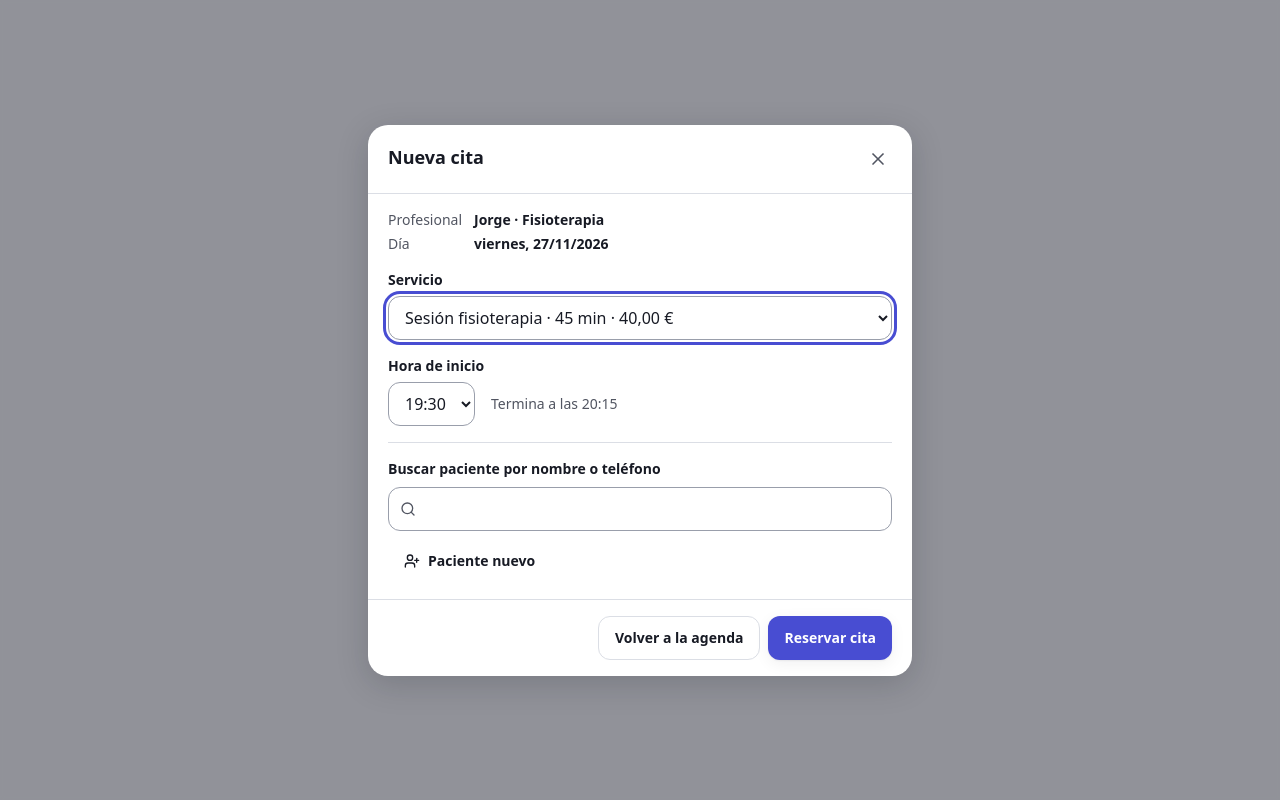
Scenario: DialogoAltaCita › [001][FR-016] ante un 422 conserva los datos del paciente nuevo y muestra los errores por campo
Click the button "Paciente nuevo" at (470, 560), box [388, 538, 551, 582]
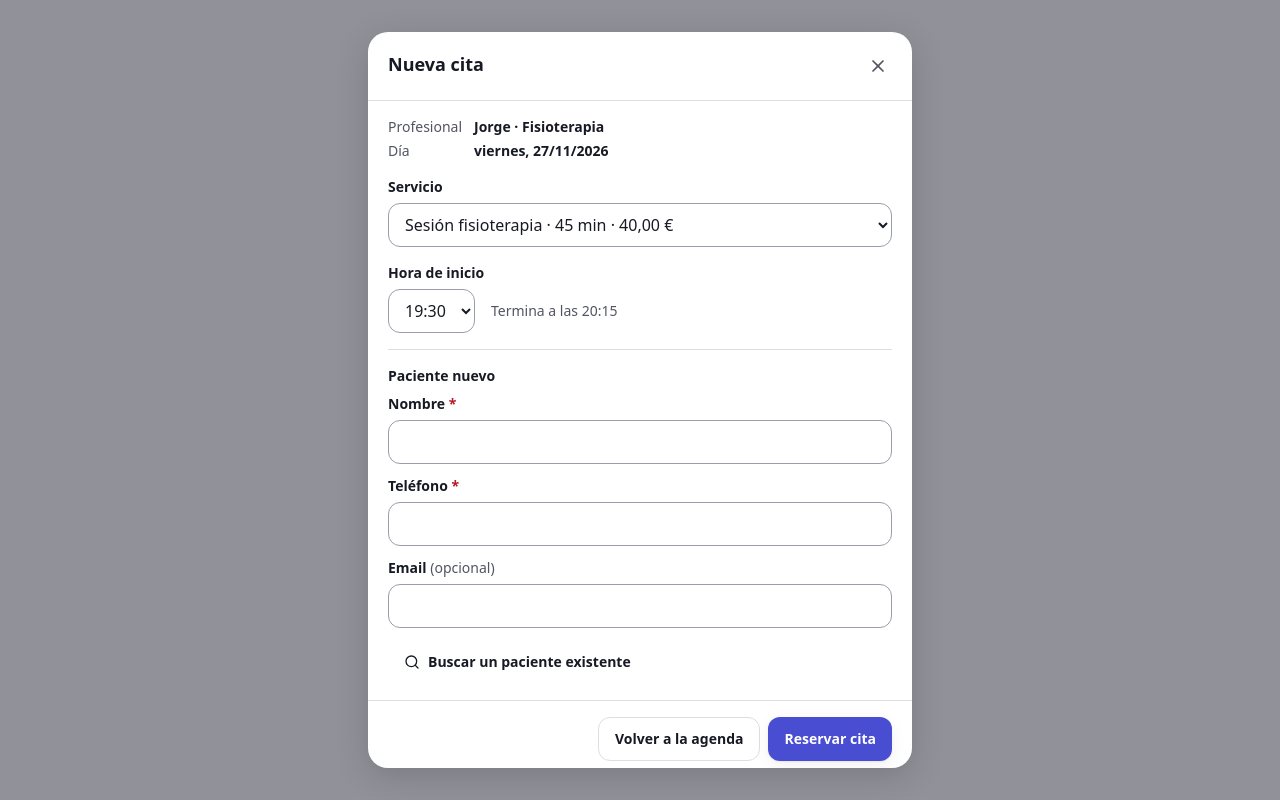
Type "Pedro Ruiz" into the field labelled "Nombre *" at (640, 442), box [388, 420, 892, 464]
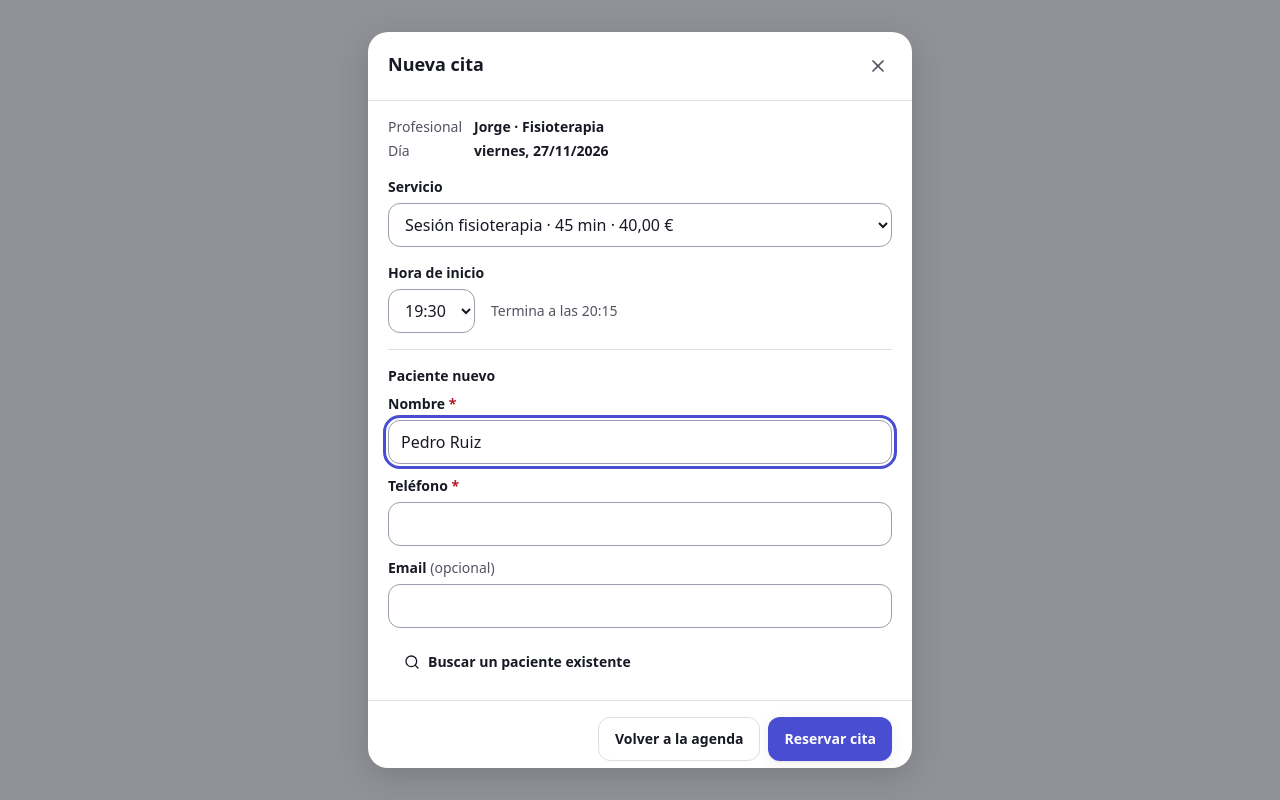
Type "611 222 333" into the field labelled "Teléfono *" at (640, 524), box [388, 502, 892, 546]
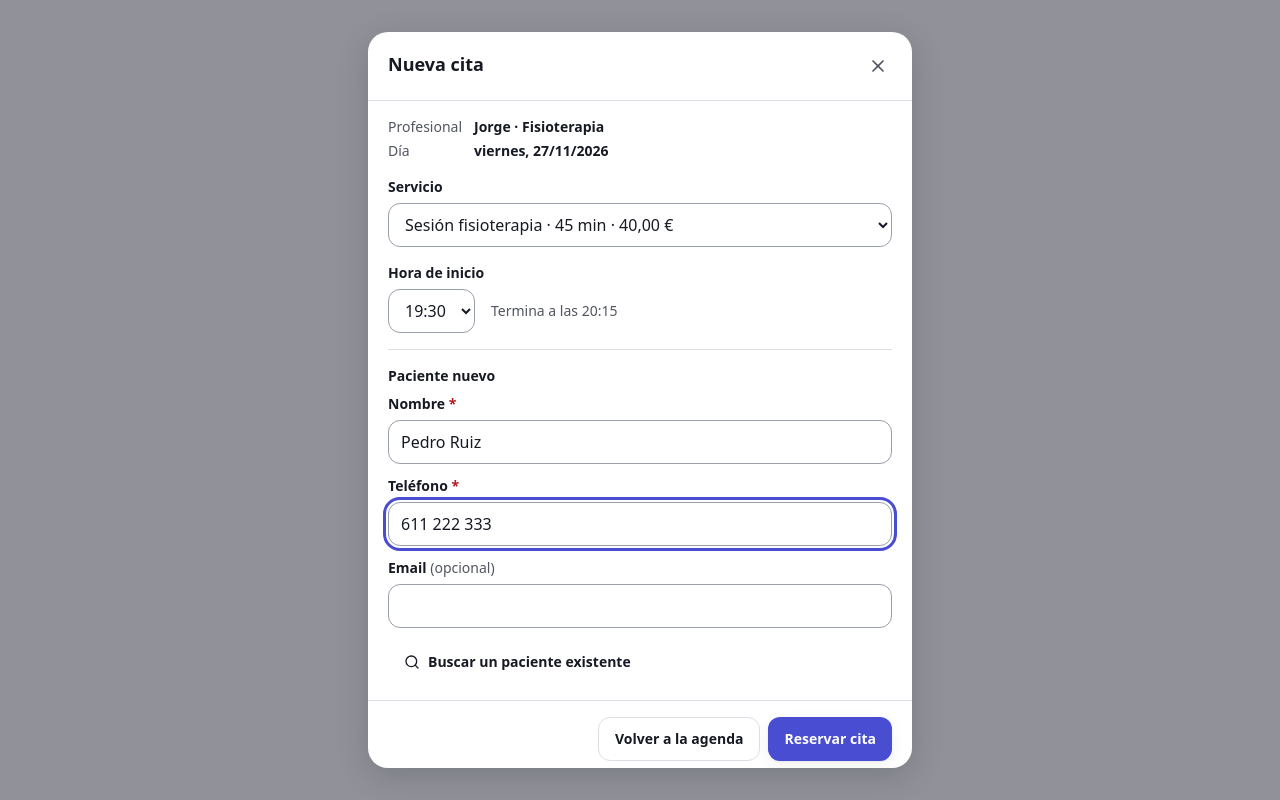
Type "pedro@ejemplo.es" into the field labelled "Email (opcional)" at (640, 606), box [388, 584, 892, 628]
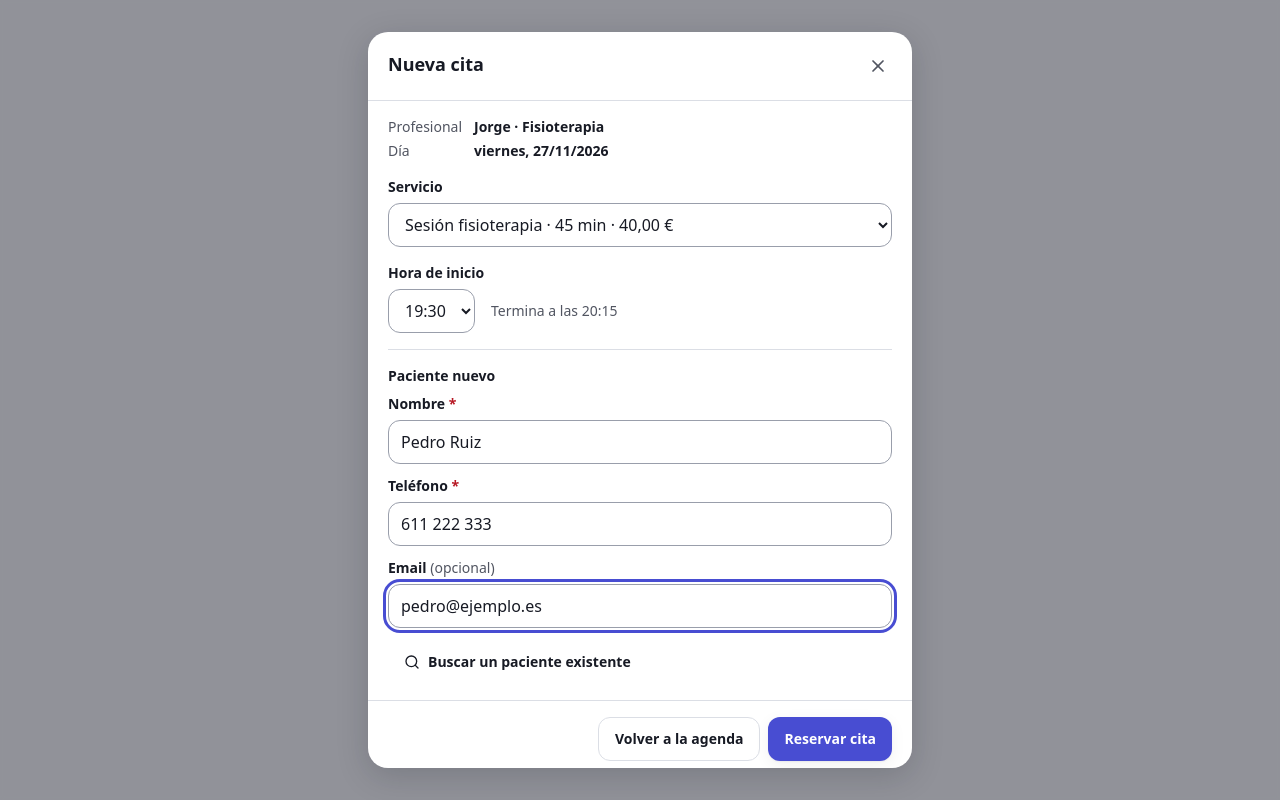
Click the button "Reservar cita" at (830, 739), box [768, 717, 892, 761]
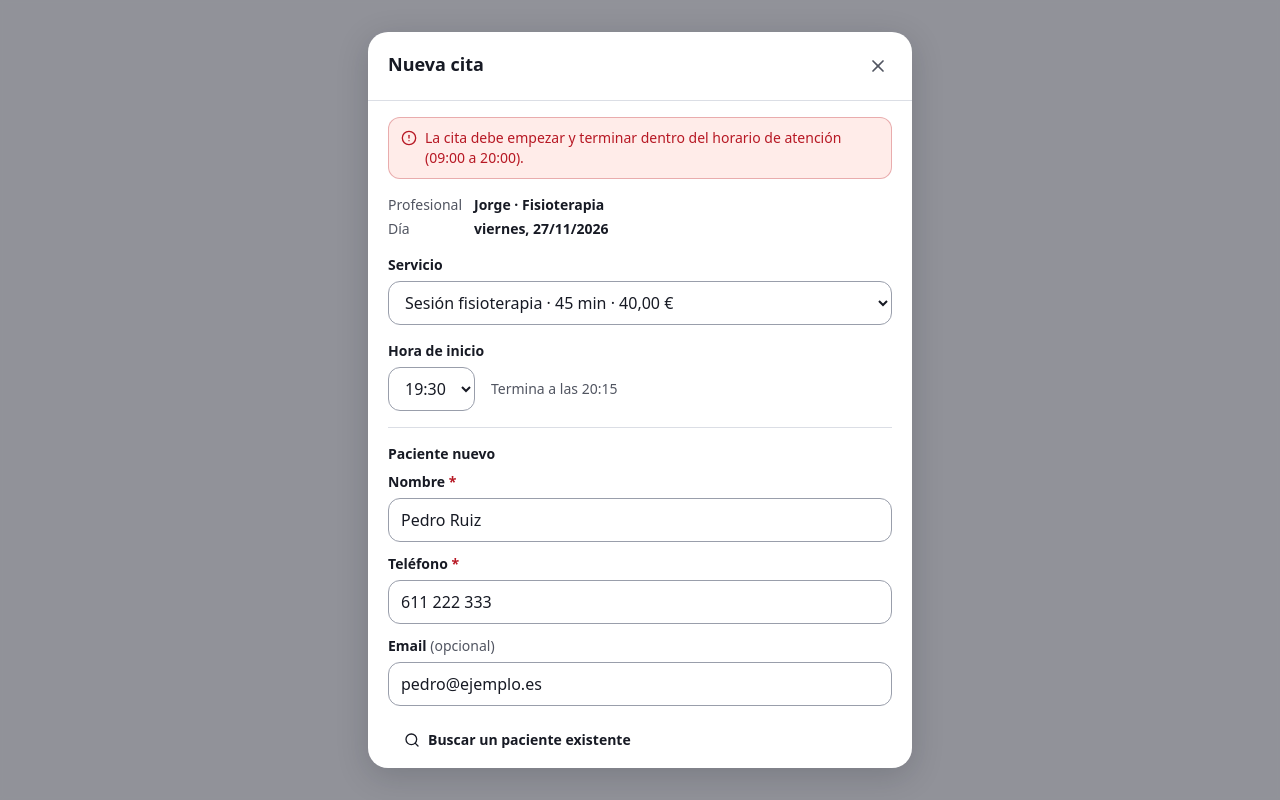
expect the dropdown labelled "Hora de inicio" shows "19:30": met, box [388, 367, 475, 411]
expect the message reads "La cita debe empezar y terminar dentro del horario de atención (09:00 a 20:00).": met, box [425, 128, 841, 167]
